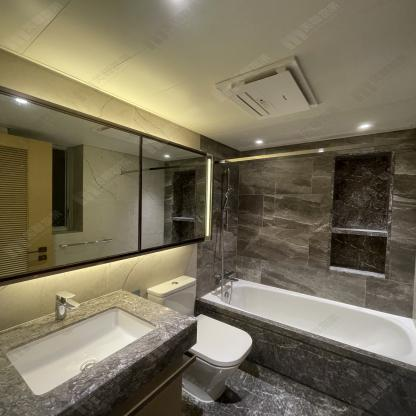Bathtub: (198, 277, 416, 414)
Toilet: (147, 274, 254, 404)
Toilet Sink: (4, 303, 161, 399)
